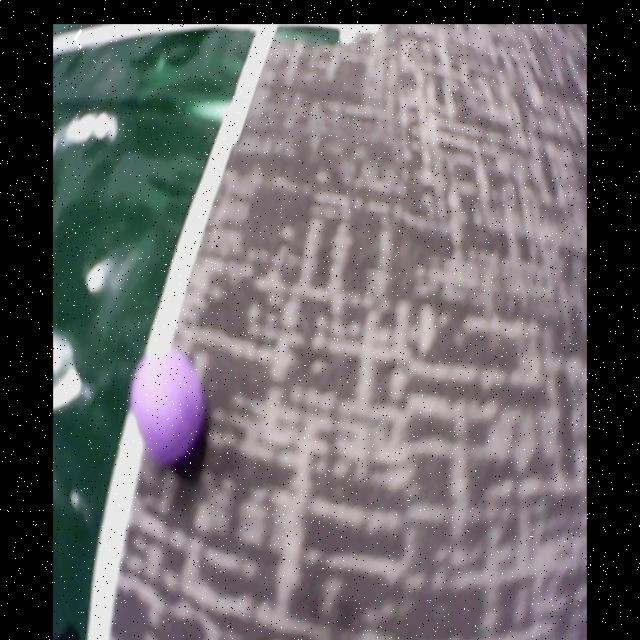ball: (131, 352, 210, 470)
